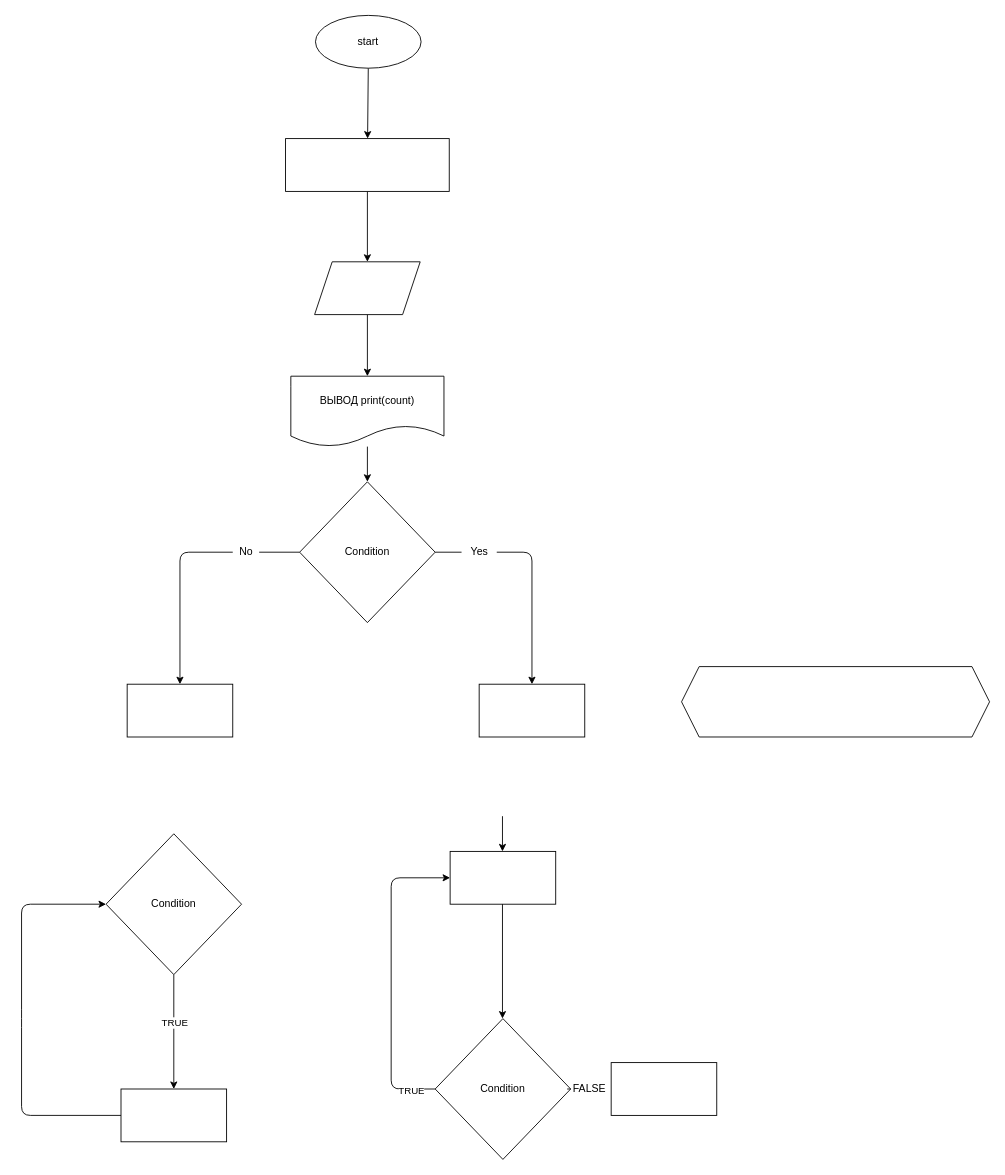
Image size: 1005x1175. Some labels were removed from this diagram. The shapes that lost their labels are listed below. From the top down, each one's centre as x and y in pixels, then its label:
At [367,164]: "count = 0 res = 1 * sqrt (2)".
At [367,288]: "ВВОД (count)".
At [835,701]: "count = 1, 10, 5 Count = 10, 0, -2".
